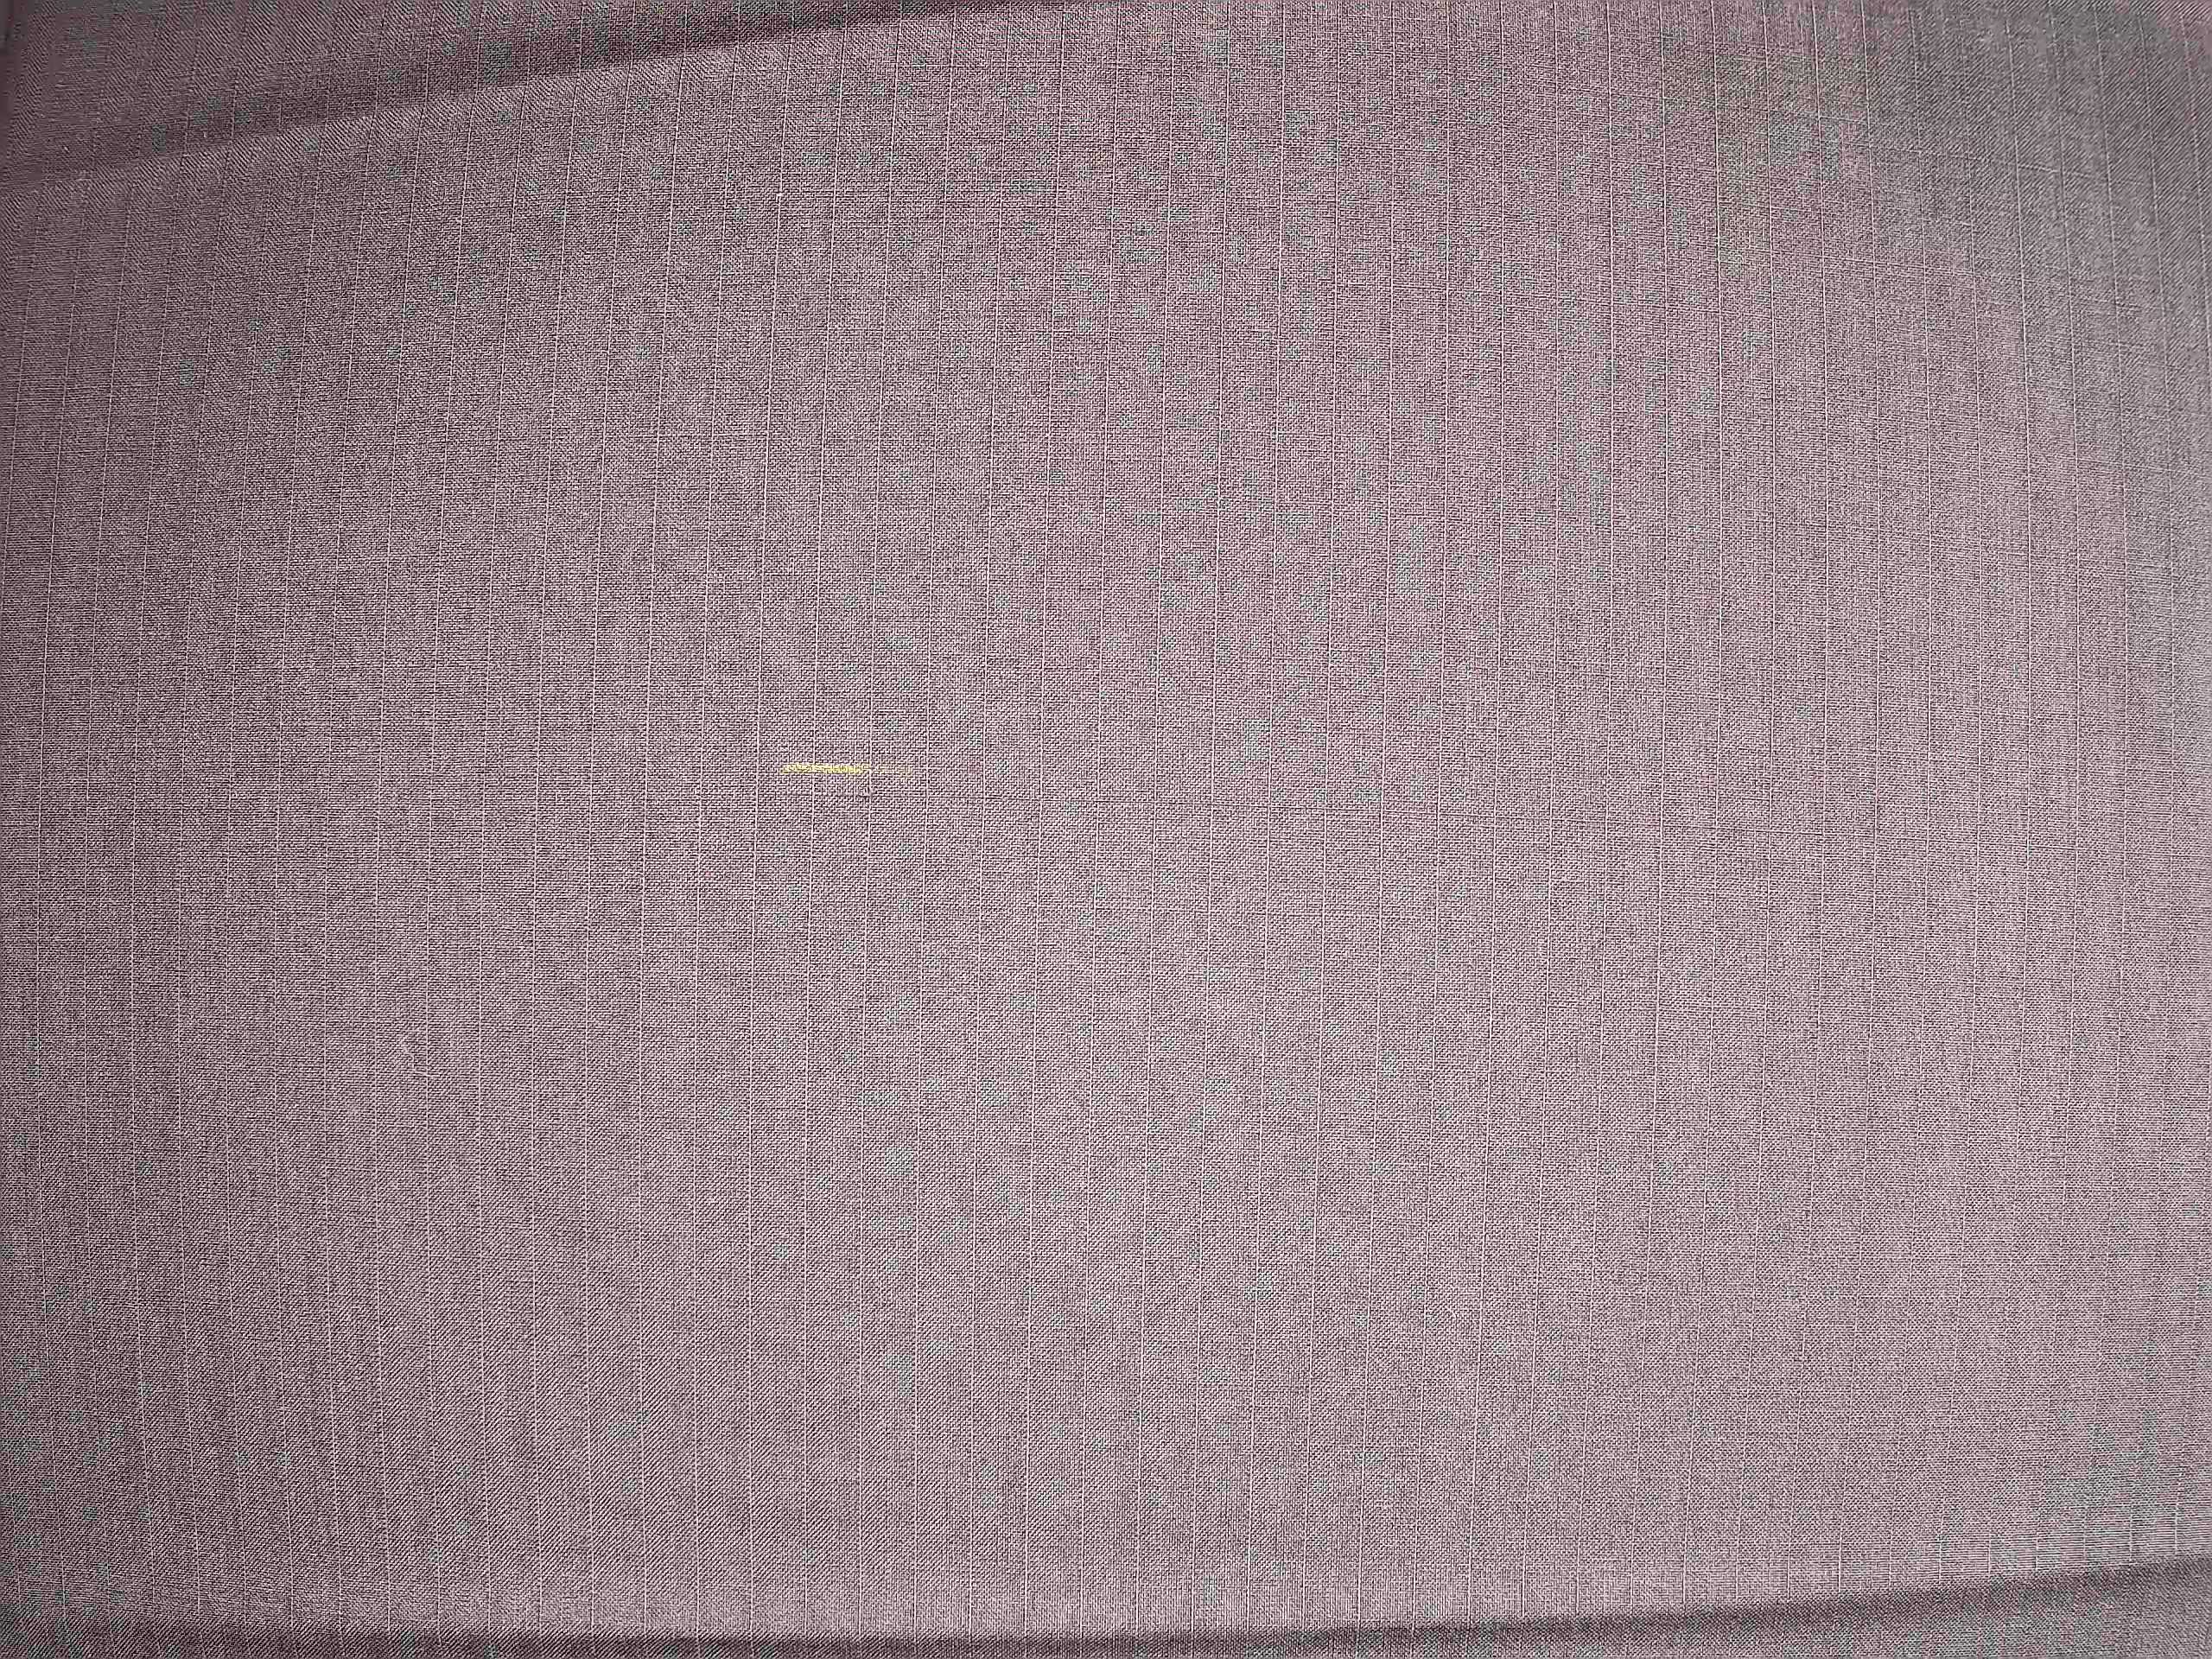others: (775, 769, 946, 829)
